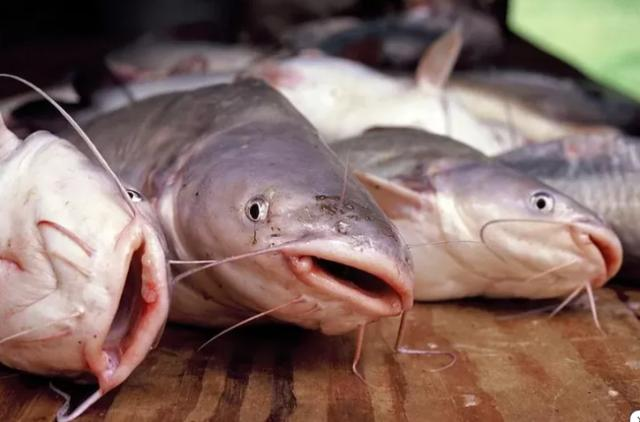Mulut: (67, 205, 193, 415), (272, 218, 418, 348), (560, 210, 636, 308)
